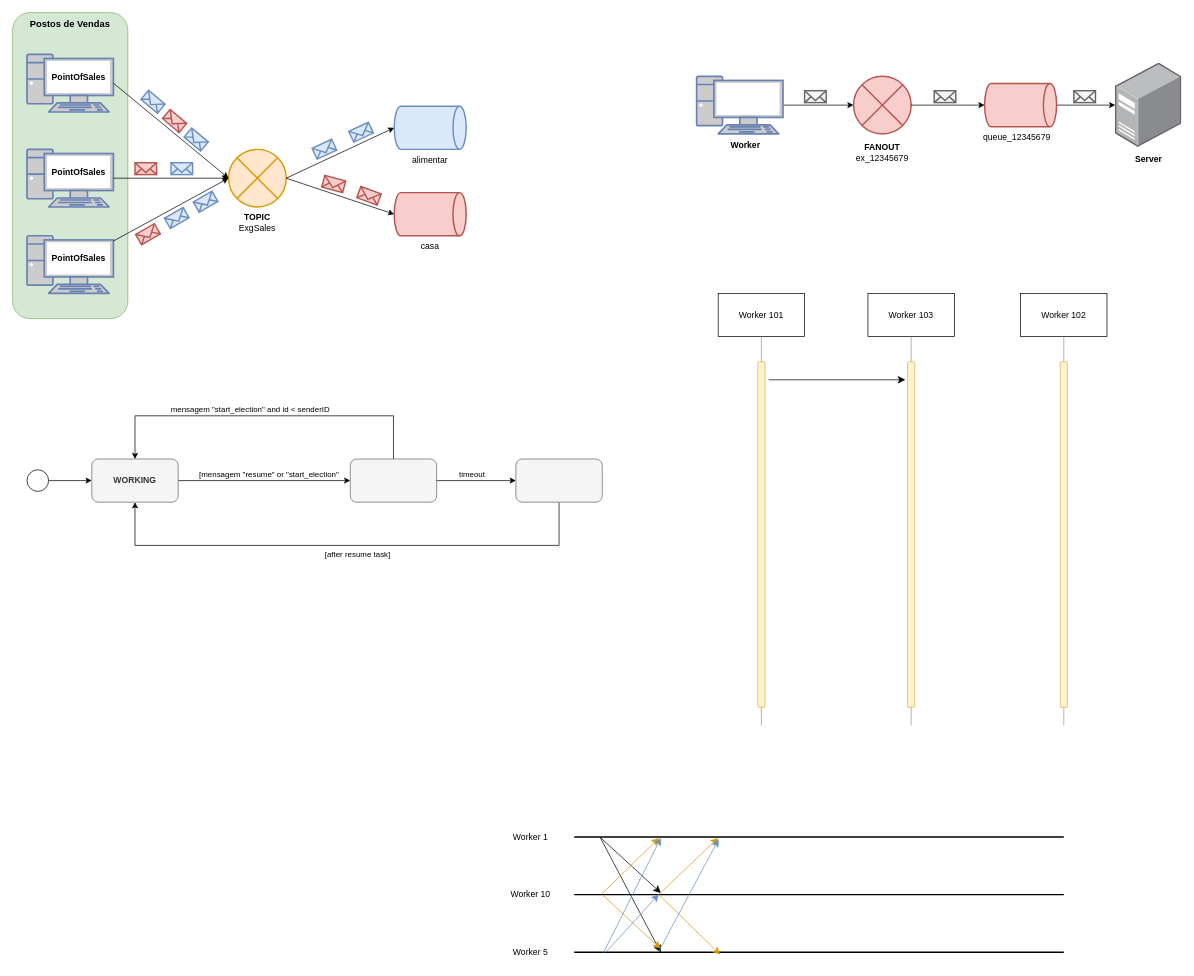
Image size: 1194x976. Some labels were removed from this diagram. The shapes that lost their labels are listed below. From the top down, each one's box as (x1, y1, x2, y2) in pixels, then its label:
(350, 458, 437, 502): IN_ELECTION
(515, 458, 602, 502): LEADER
